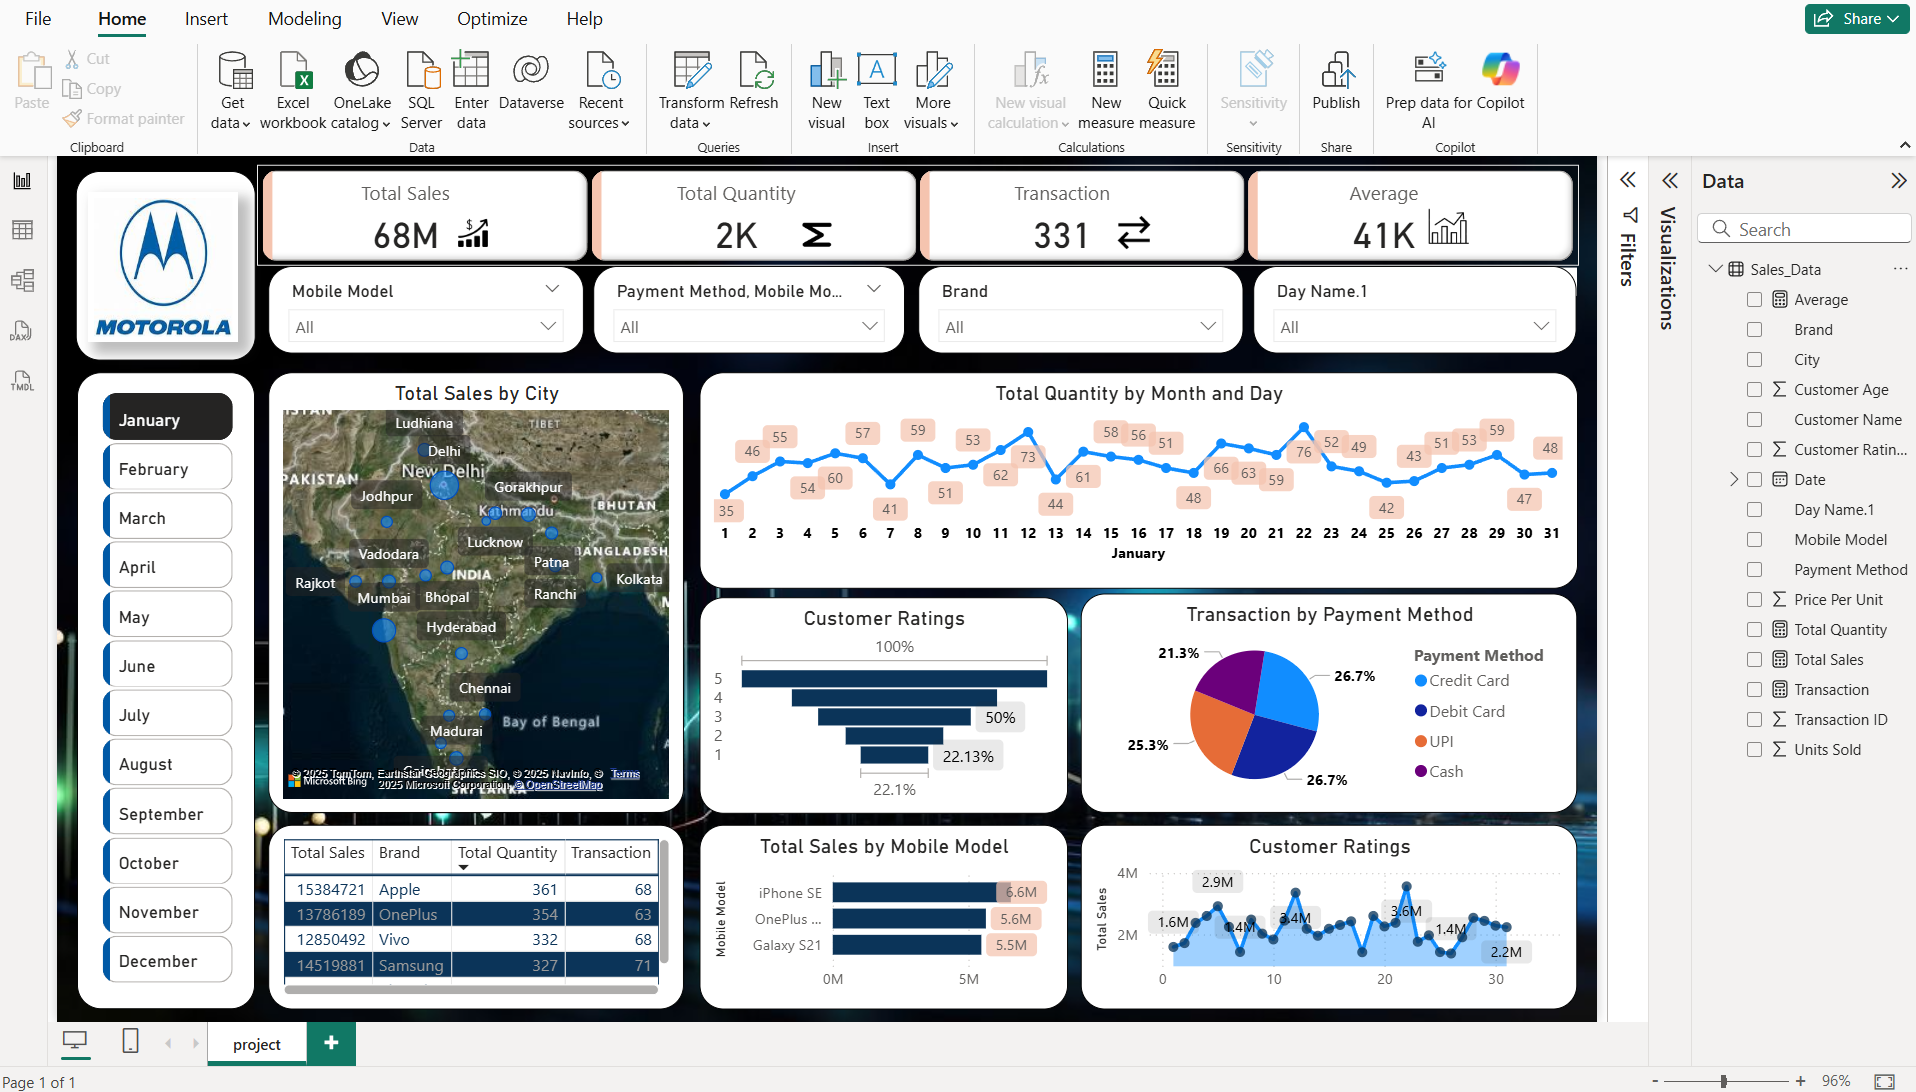

The dashboard page shown, as its layout file describes it:
{"tool":"powerbi","page":{"name":"project","canvas":[1280,720],"ordinal":0},"visuals":[{"type":"shape","box":[15.1,12.3,149.6,157.8],"z":0},{"type":"image","box":[26.1,30.2,124.9,124.9],"z":1000},{"type":"shape","box":[16.5,179.8,148.2,529.7],"z":2000},{"type":"advancedSlicerVisual","fields":{"Values":["Sales_Data.Date.Variation.Date Hierarchy.Month"]},"box":[32.9,192.1,118,503.6],"z":3000},{"type":"cardVisual","fields":{"Data":["Sales_Data.Total Sales","Sales_Data.Total Quantity","Sales_Data.Transaction","Sales_Data.Average"]},"box":[166,6.9,1099.1,85.1],"z":4000},{"type":"map","fields":{"Category":["Sales_Data.City"],"Size":["Sales_Data.Total Sales"]},"box":[175.6,179.8,345.8,366.4],"z":5000},{"type":"lineChart","fields":{"Y":["Sales_Data.Total Quantity"],"Category":["Sales_Data.Date.Variation.Date Hierarchy.Month","Sales_Data.Date.Variation.Date Hierarchy.Day"]},"box":[533.8,179.8,730,179.8],"z":6000},{"type":"barChart","fields":{"Category":["Sales_Data.Mobile Model"],"Y":["Sales_Data.Total Sales"]},"box":[533.8,555.7,306,153.7],"z":7000},{"type":"pieChart","fields":{"Category":["Sales_Data.Payment Method"],"Y":["Sales_Data.Transaction"]},"box":[850.8,363.6,413,182.5],"z":8000},{"type":"funnel","title":" Customer Ratings","fields":{"Category":["Sales_Data.Customer Ratings"],"Y":["CountNonNull(Sales_Data.Customer Ratings)"]},"box":[533.8,366.4,306,179.8],"z":9000},{"type":"areaChart","title":" Customer Ratings","fields":{"Y":["Sales_Data.Total Sales"],"Category":["Sales_Data.Date.Variation.Date Hierarchy.Day"]},"box":[850.8,555.7,413,153.7],"z":10000},{"type":"tableEx","fields":{"Values":["Sales_Data.Total Sales","Sales_Data.Brand","Sales_Data.Total Quantity","Sales_Data.Transaction"]},"box":[175.6,555.7,345.8,153.7],"z":11000},{"type":"slicer","fields":{"Values":["Sales_Data.Mobile Model"]},"box":[175.6,91.9,262.1,72.7],"z":12000},{"type":"slicer","fields":{"Values":["Sales_Data.Payment Method","Sales_Data.Mobile Model"]},"box":[446,91.9,259.3,72.7],"z":13000},{"type":"slicer","fields":{"Values":["Sales_Data.Brand"]},"box":[716.3,91.9,270.3,72.7],"z":14000},{"type":"slicer","fields":{"Values":["Sales_Data.Day Name.1"]},"box":[994.9,91.9,269,72.7],"z":15000}]}

Visuals, with their boxes on the page's 1280x720 design canvas (x1, y1, x2, y2). These are canvas units, not pixel positions in the 1916x1092 screenshot, which may show the page scaled, cropped or inside an application window:
shape: Rect(15, 12, 165, 170)
image: Rect(26, 30, 151, 155)
shape: Rect(16, 180, 165, 710)
advancedSlicerVisual - Sales_Data.Date.Variation.Date Hierarchy.Month: Rect(33, 192, 151, 696)
cardVisual - Sales_Data.Total Sales x Sales_Data.Total Quantity: Rect(166, 7, 1265, 92)
map - Sales_Data.City x Sales_Data.Total Sales: Rect(176, 180, 521, 546)
lineChart - Sales_Data.Total Quantity x Sales_Data.Date.Variation.Date Hierarchy.Month: Rect(534, 180, 1264, 360)
barChart - Sales_Data.Mobile Model x Sales_Data.Total Sales: Rect(534, 556, 840, 709)
pieChart - Sales_Data.Payment Method x Sales_Data.Transaction: Rect(851, 364, 1264, 546)
" Customer Ratings" funnel: Rect(534, 366, 840, 546)
" Customer Ratings" areaChart: Rect(851, 556, 1264, 709)
tableEx - Sales_Data.Total Sales x Sales_Data.Brand: Rect(176, 556, 521, 709)
slicer - Sales_Data.Mobile Model: Rect(176, 92, 438, 165)
slicer - Sales_Data.Payment Method x Sales_Data.Mobile Model: Rect(446, 92, 705, 165)
slicer - Sales_Data.Brand: Rect(716, 92, 987, 165)
slicer - Sales_Data.Day Name.1: Rect(995, 92, 1264, 165)
